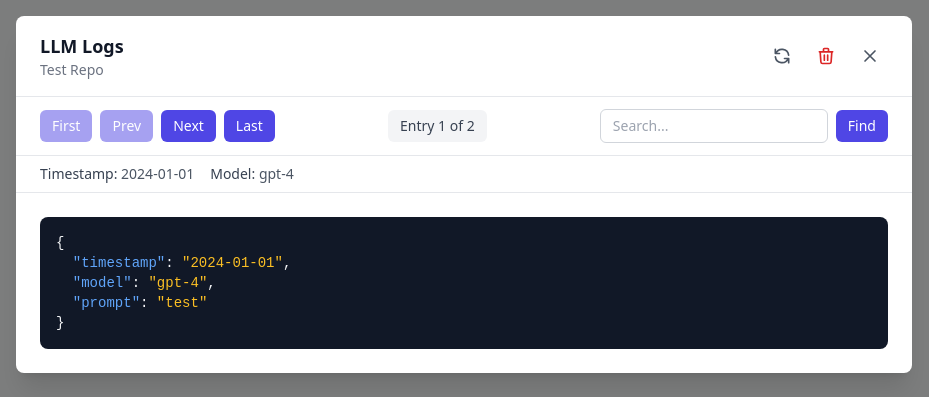
Test: LogViewerModal › navigates to previous entry when Prev button is clicked
Expected: the text "Entry 1 of 2" is shown, left=388, top=110, right=487, bottom=142
// Go to entry 2
Click the button "Next".
click(188, 126)  # box left=161, top=110, right=216, bottom=142
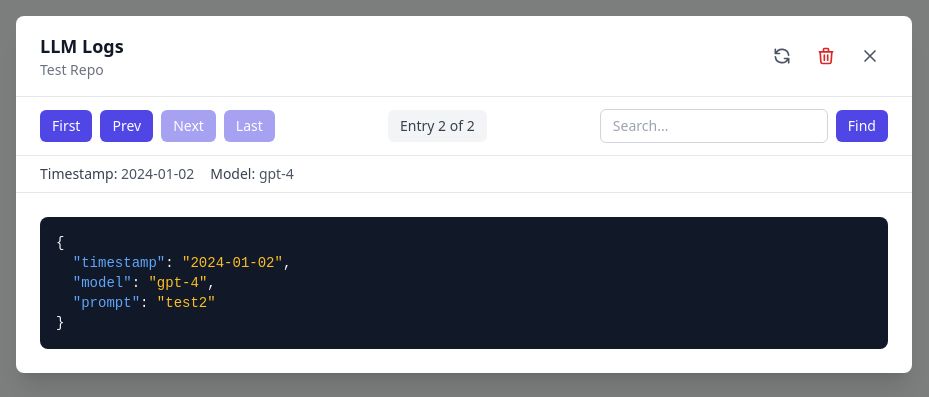
Result: the text "Entry 2 of 2" is shown at left=388, top=110, right=487, bottom=142
// Go back to entry 1
Click the button with aria-label "previous".
click(127, 126)  # box left=100, top=110, right=153, bottom=142
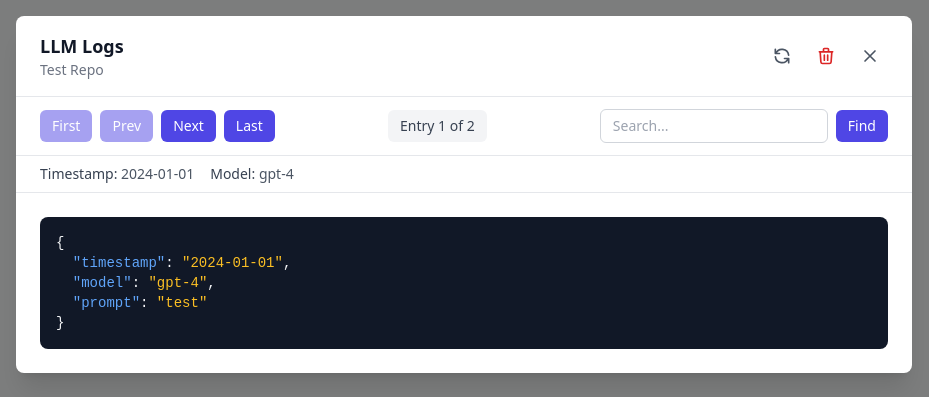
Result: the text "Entry 1 of 2" is shown at left=388, top=110, right=487, bottom=142
